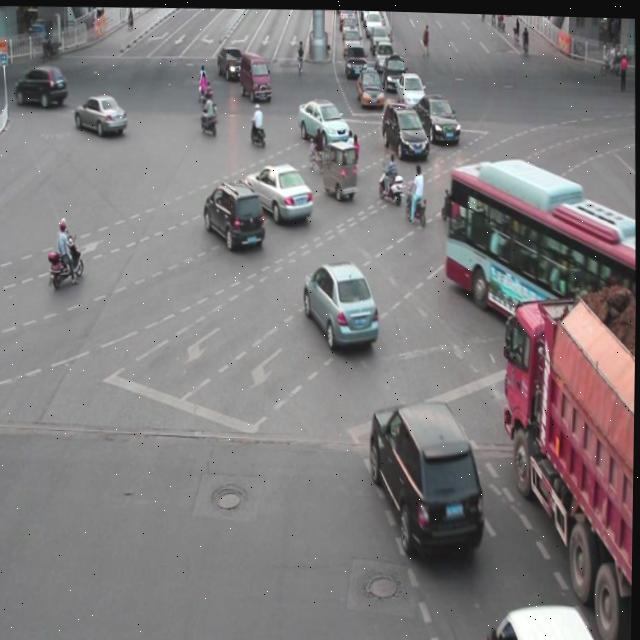bus: (500, 291, 637, 636)
car: (369, 394, 486, 552), (303, 255, 380, 344), (202, 177, 265, 251), (244, 159, 313, 221), (484, 155, 546, 218), (379, 98, 428, 158), (295, 96, 350, 146), (73, 91, 128, 139), (411, 89, 459, 140)
truck: (486, 594, 610, 640)
van: (443, 153, 638, 335)
